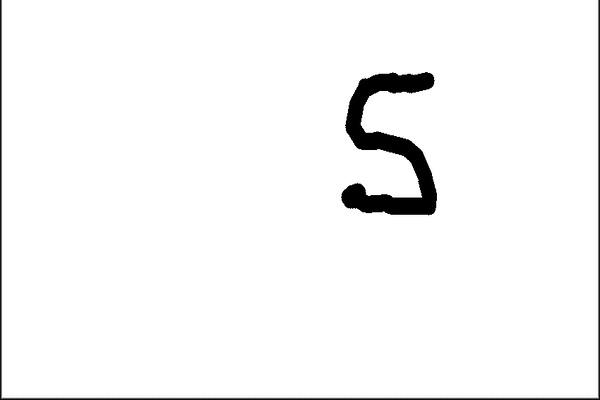S: (329, 61, 450, 230)
